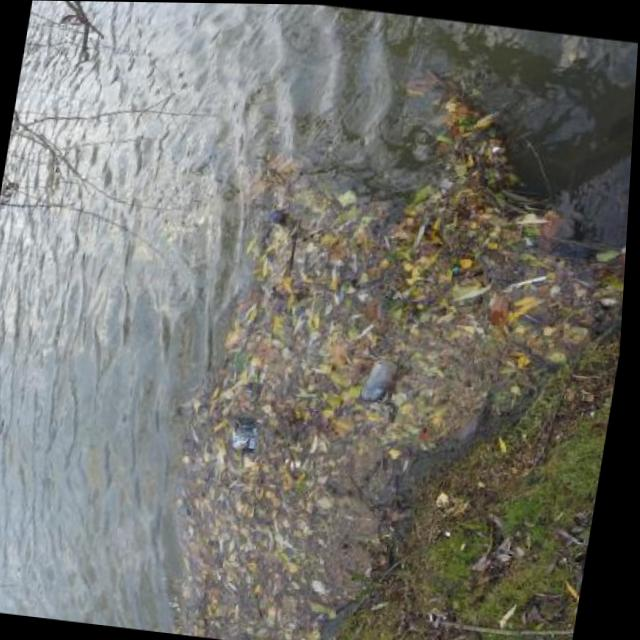other: (228, 413, 261, 451)
plastic: (360, 355, 397, 403)
